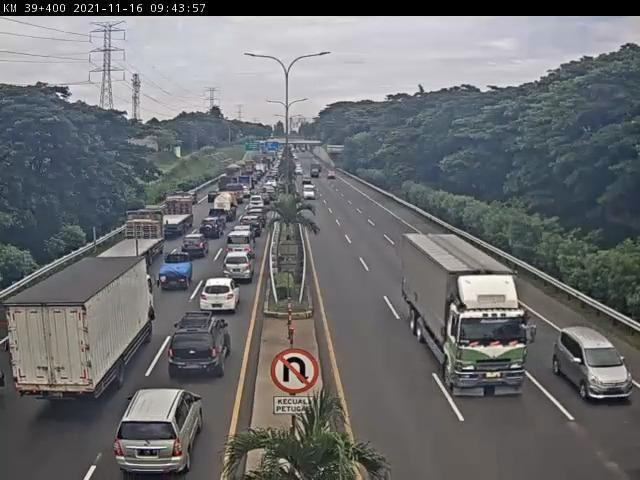car: (115, 388, 207, 474), (555, 326, 635, 406), (166, 312, 233, 386), (200, 277, 240, 317), (158, 251, 197, 291), (223, 252, 256, 286), (227, 232, 256, 262), (179, 235, 207, 260), (200, 220, 223, 243)
truck: (400, 232, 539, 398), (3, 257, 156, 405), (90, 213, 164, 271), (151, 195, 193, 239)
